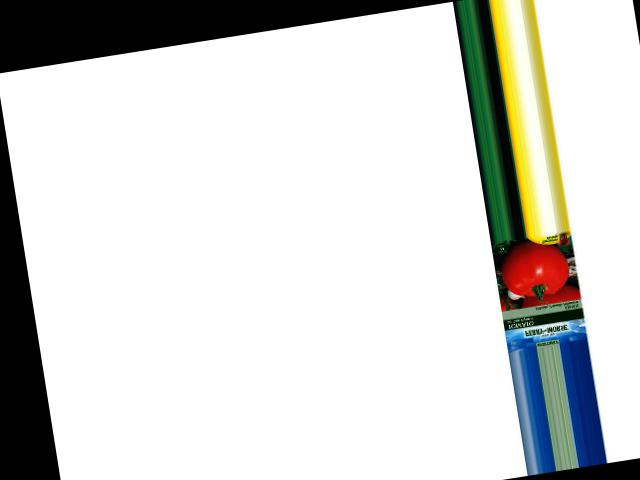tomato: (497, 234, 572, 300)
